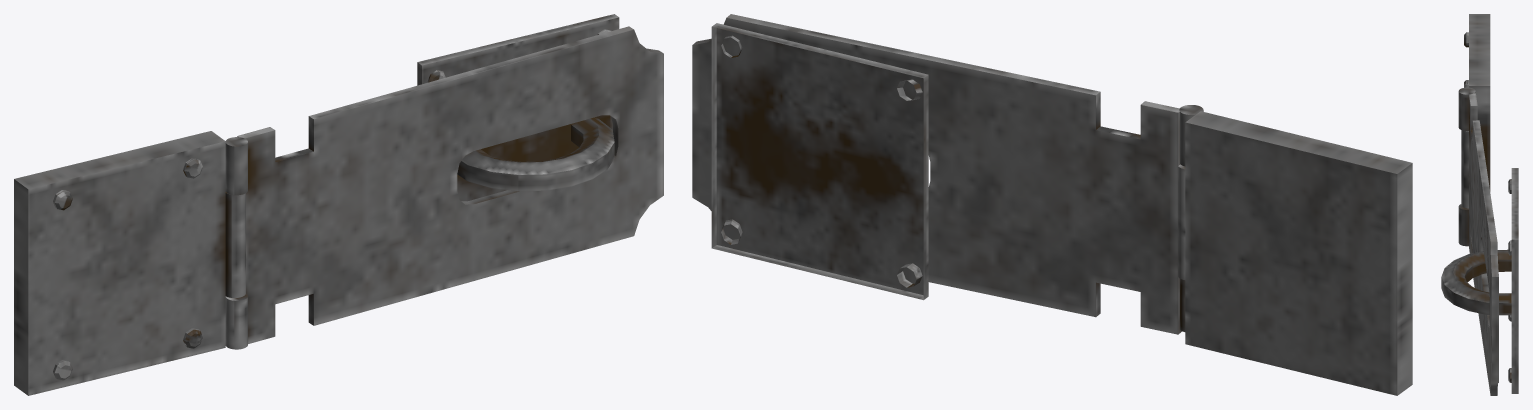
File: LatchDoor.fbx
3 views of the same model, side by side, from view 1: azimuth 30°, elevation 25°; view 2: azimuth 150°, elevation 25°; view 3: azimuth 270°, elevation 25° (orthographic). The views are drawn at different scales.
Parts seen in each view (by area): view 1: Cube.039, Cylinder.004; view 2: Cylinder.004, Cube.039; view 3: Cylinder.004, Cube.039.
Boxes of the visible parts, x1,y1,x2,y2 form: Cube.039: (225,26,663,349); Cylinder.004: (14,14,619,395); Cylinder.004: (711,23,1412,395); Cube.039: (692,14,1203,334); Cylinder.004: (1441,14,1518,393); Cube.039: (1458,87,1498,395).
Bounding box in the file's own units: 22.19 × 6.8 × 3.04.
1 material, 1 textured.
